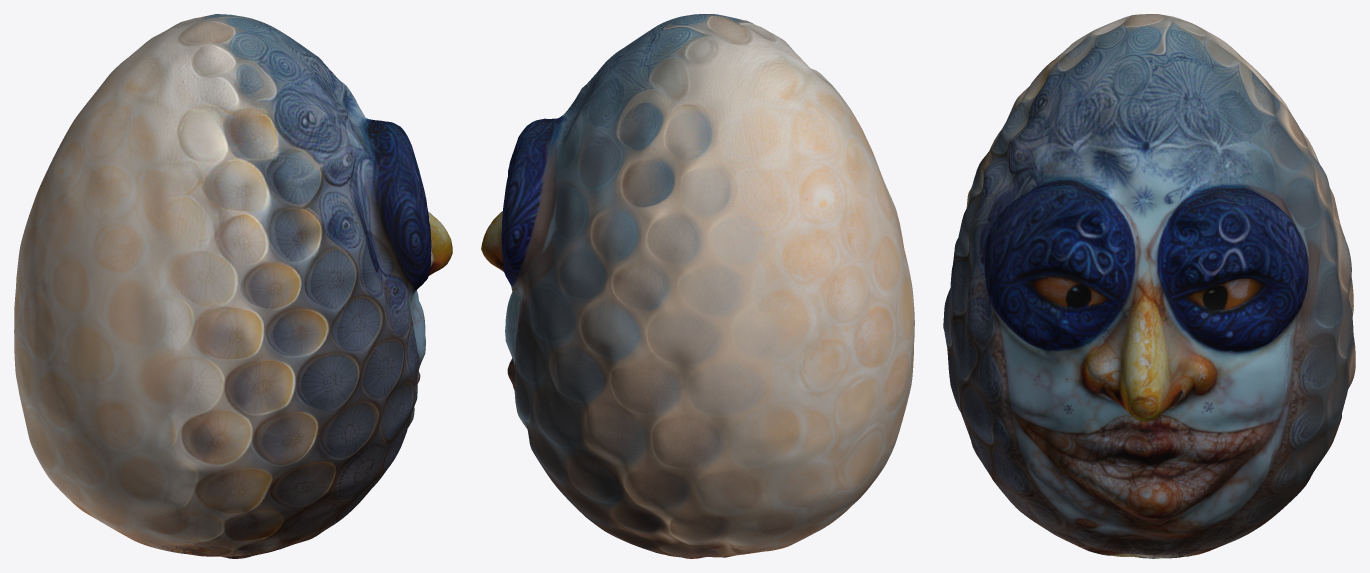
3 views of the same model, side by side, from view 1: azimuth 30°, elevation 25°; view 2: azimuth 150°, elevation 25°; view 3: azimuth 270°, elevation 25° (orthographic).
Visible parts, largest first — view 1: Mesh_0; view 2: Mesh_0; view 3: Mesh_0.
Part boxes in pixels (x1,y1,x2,y2): Mesh_0: (14, 14, 452, 558); Mesh_0: (481, 14, 914, 558); Mesh_0: (943, 14, 1355, 558).
Bounding box in the file's own units: 98.99 × 120 × 87.48.
1 material, 1 textured.
